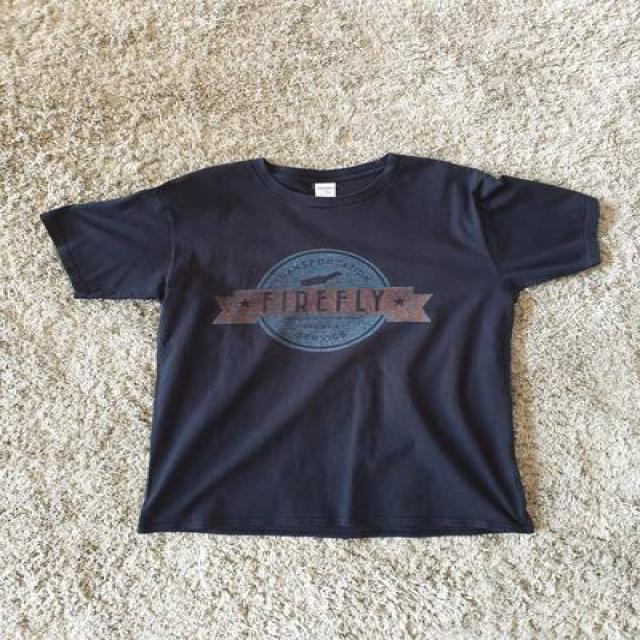Clothes -Biodegradable-: (37, 151, 606, 537)
